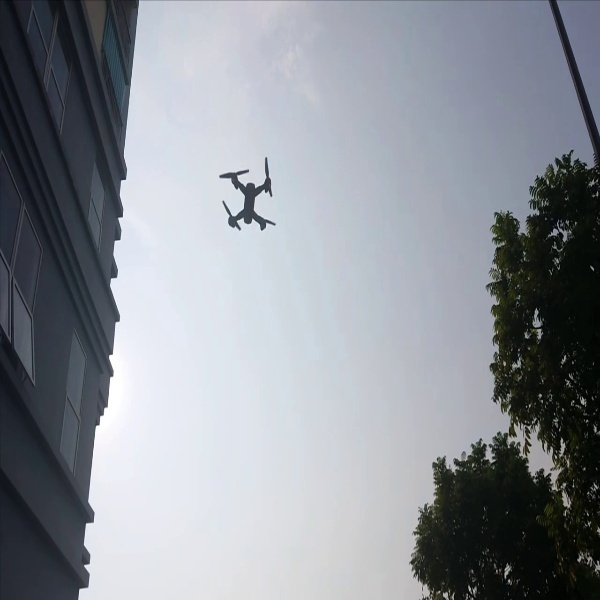drone: (201, 151, 283, 243)
